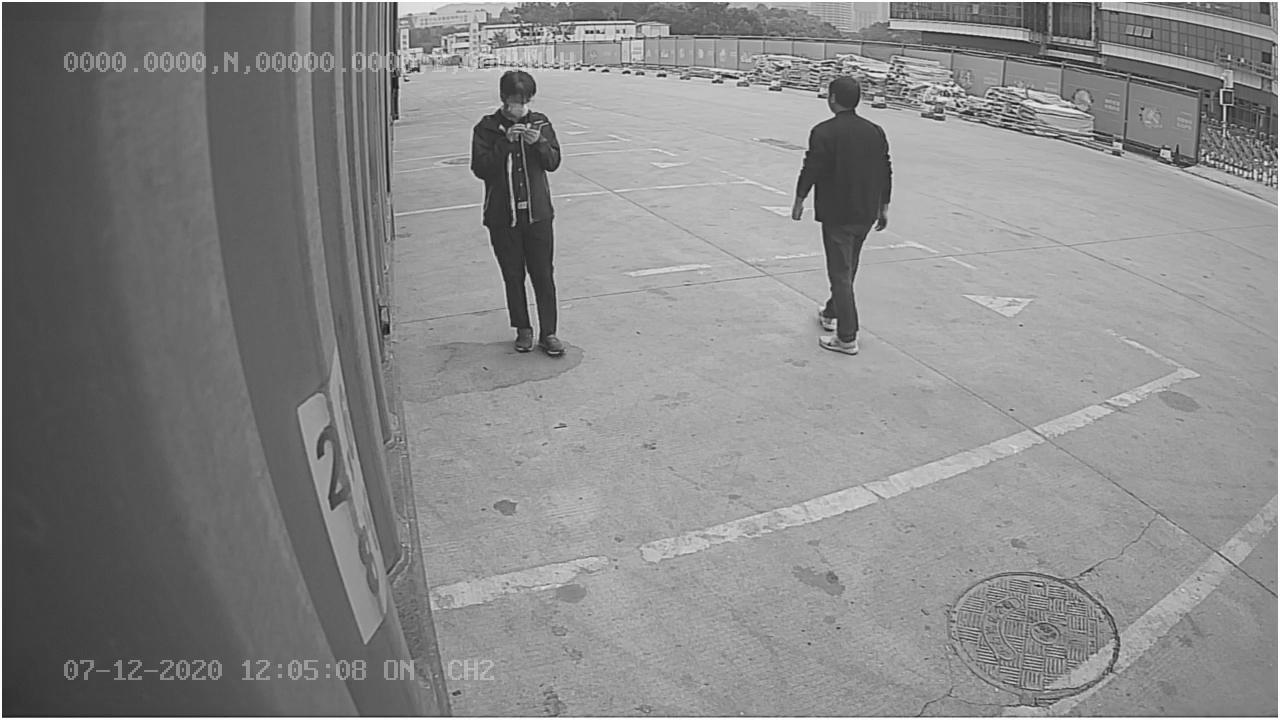person: (465, 69, 574, 359), (791, 71, 897, 352)
